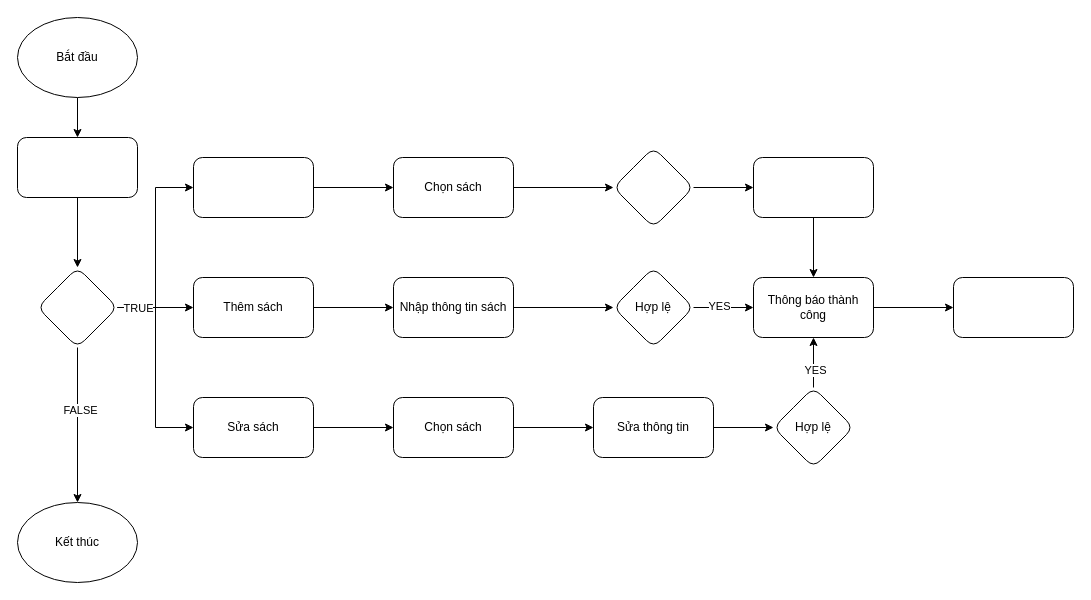
This 1091x600 diagram has some shape labels left out. Each missing label, with the centre of its shape:
<<Decision>> Thao tác: [77,307]
Hiển thị danh sách: [77,167]
Lưu vào CSDL: [1013,307]
Xác nhận: [653,187]
Xóa khỏi danh sách: [813,187]
Xóa sách: [253,187]
